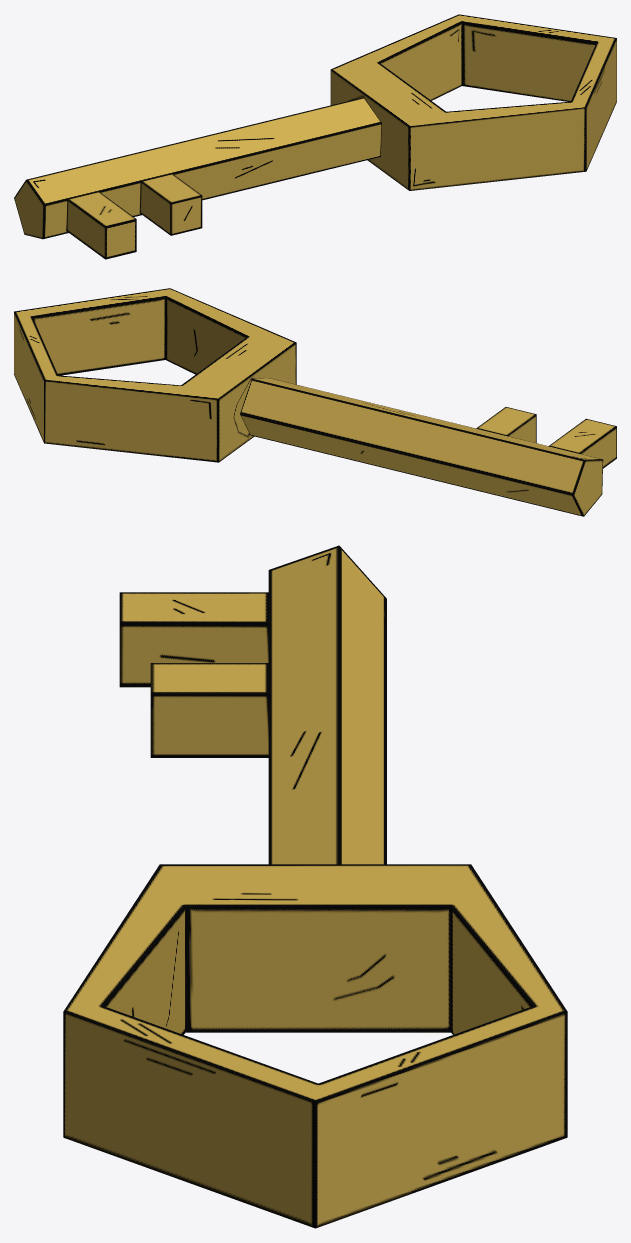
File: clef.fbx
The picture shows the model from 3 angles, top to bottom: view 1: azimuth 30°, elevation 25°; view 2: azimuth 150°, elevation 25°; view 3: azimuth 270°, elevation 25°; orthographic projection. The views are drawn at different scales.
Parts seen in each view (by area): view 1: Clee; view 2: Clee; view 3: Clee.
Part boxes in pixels (x1,y1,x2,y2): Clee: (14, 14, 616, 259); Clee: (14, 288, 616, 516); Clee: (63, 545, 567, 1228).
Size of the model in its own units: 32.13 by 3.35 by 12.14.
